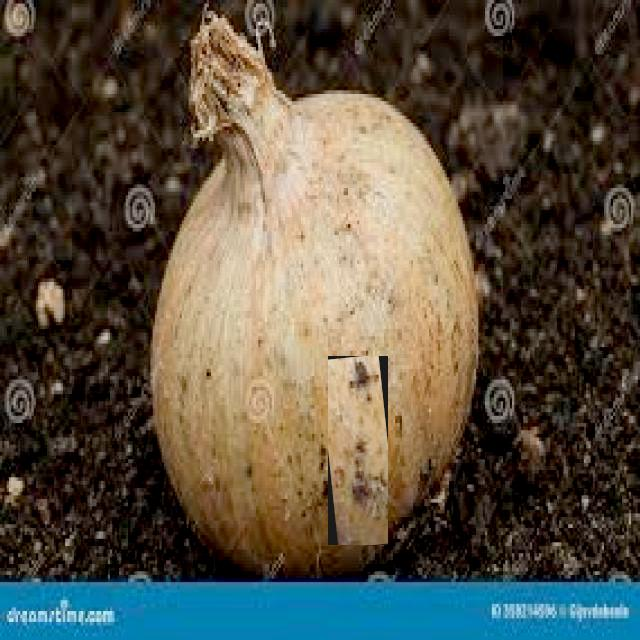mould: (328, 356, 388, 545)
